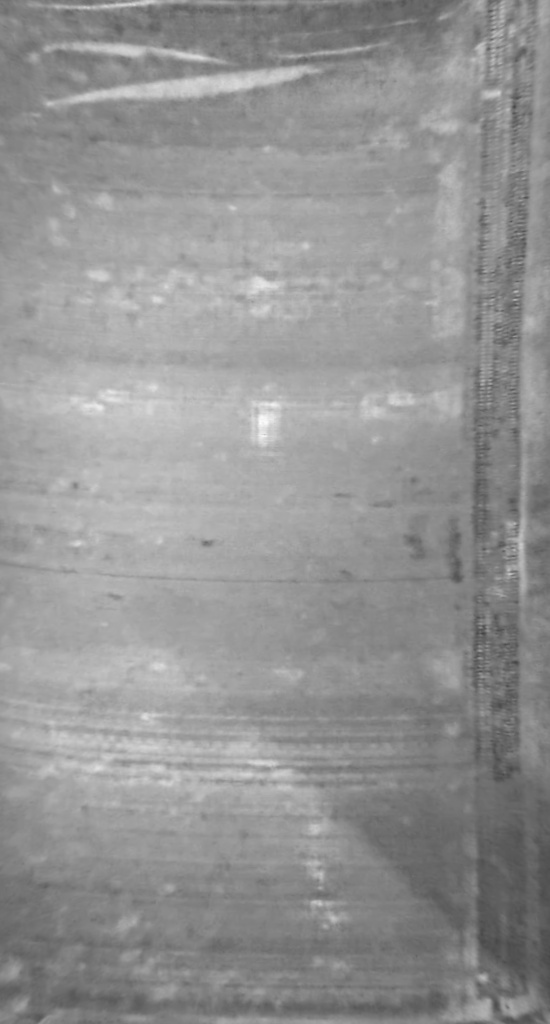splice: (452, 1, 549, 1022)
